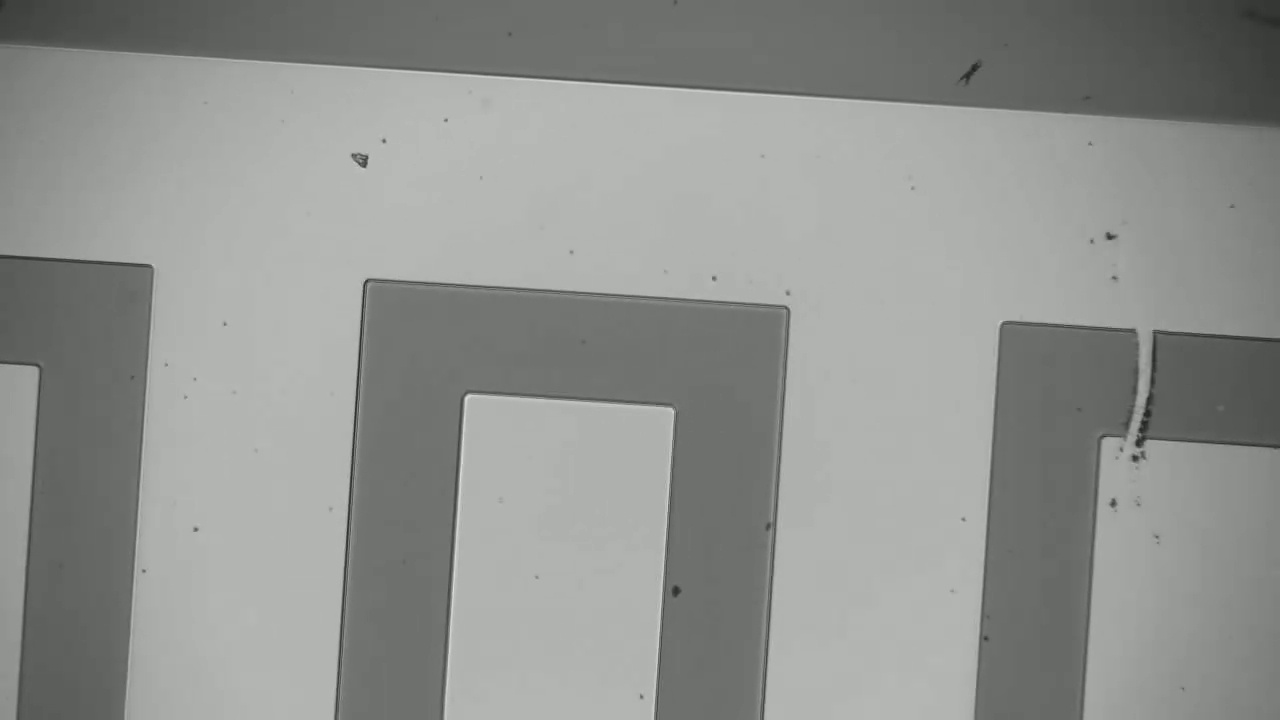Short_circuit: (1105, 306, 1172, 469)
